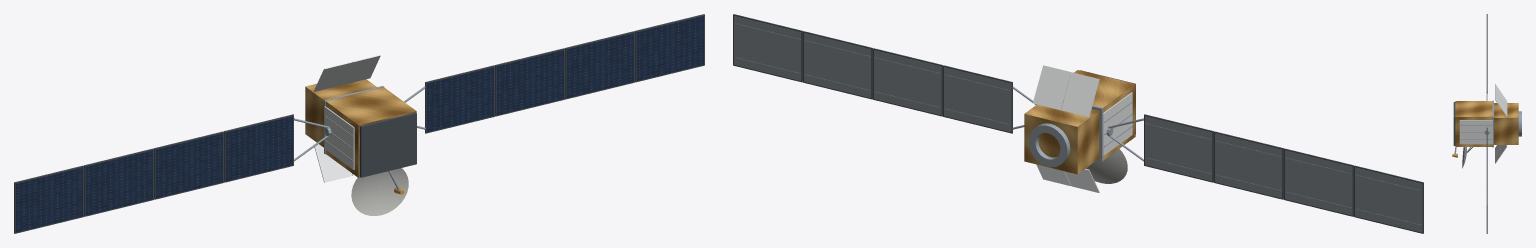
Rendered from ref-spacebus-3000a-29163.glb.
3 views of the same model, side by side, from view 1: azimuth 30°, elevation 25°; view 2: azimuth 150°, elevation 25°; view 3: azimuth 270°, elevation 25° (orthographic). The views are drawn at different scales.
Visible parts, largest first — view 1: Solar cell panel (×8), Solar panel frame (×8), Earth-facing deck, Payload module, Communications reflector, Deployed radiator leaf (×3), Service module, Radiator face; view 2: Rear array substrate (×8), Service module, Solar panel frame (×8), Deployed radiator leaf (×4), Payload module, Radiator face, Launch adapter ring, Communications reflector; view 3: Service module, Payload module, Radiator face, Deployed radiator leaf (×3), Earth-facing deck, Launch adapter ring, Solar panel frame, Communications reflector, Module interface.
Part boxes in pixels (x1,y1,x2,y2): Solar cell panel (×8): (15, 16, 703, 232); Solar panel frame (×8): (14, 14, 704, 233); Earth-facing deck: (359, 112, 416, 177); Payload module: (326, 87, 416, 177); Communications reflector: (351, 168, 408, 215); Deployed radiator leaf (×3): (313, 55, 380, 182); Service module: (305, 79, 376, 147); Radiator face: (324, 106, 354, 169); Rear array substrate (×8): (734, 16, 1422, 232); Service module: (1024, 102, 1099, 174); Solar panel frame (×8): (733, 14, 1423, 233); Deployed radiator leaf (×4): (1033, 65, 1099, 192); Payload module: (1064, 70, 1135, 160); Radiator face: (1103, 92, 1132, 155); Launch adapter ring: (1028, 123, 1070, 167); Communications reflector: (1086, 149, 1127, 183); Service module: (1494, 103, 1518, 144); Payload module: (1455, 101, 1492, 146); Radiator face: (1459, 120, 1492, 144); Deployed radiator leaf (×3): (1495, 84, 1507, 163); Earth-facing deck: (1453, 102, 1455, 145); Launch adapter ring: (1518, 111, 1521, 136); Solar panel frame: (1486, 186, 1487, 233); Communications reflector: (1462, 147, 1466, 168); Module interface: (1492, 100, 1493, 147).
Size of the model in its own units: 26.17 by 4.79 by 4.03.
8 materials, 2 textured.
